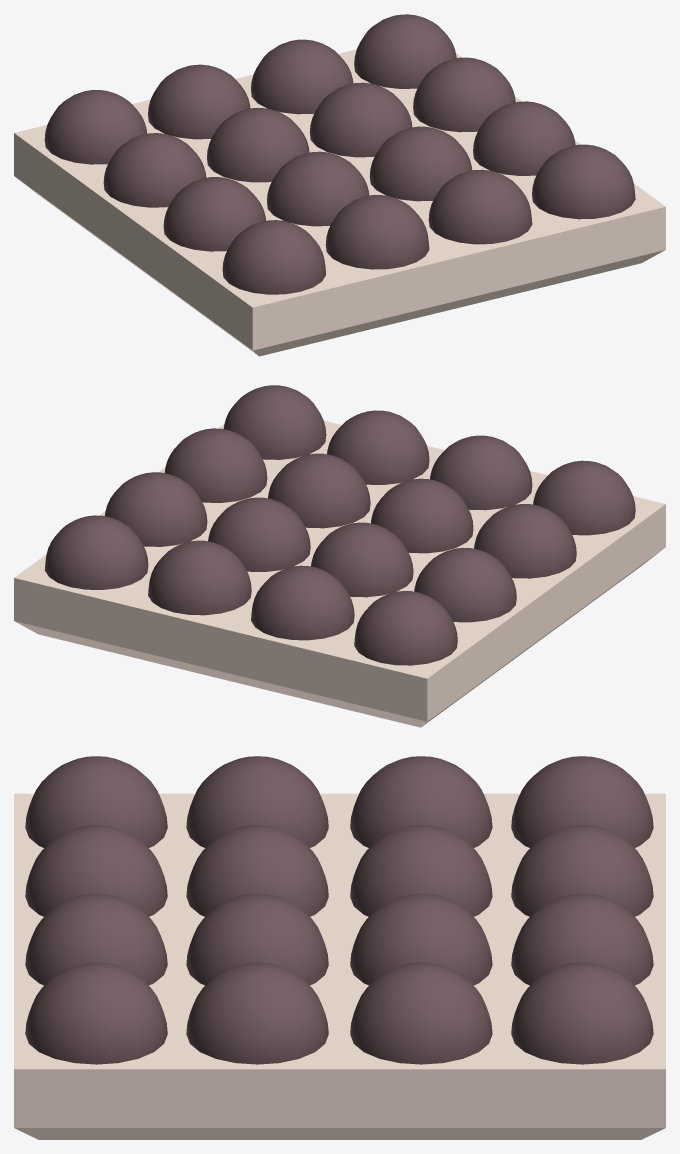
Rendered from sphere_roll.fbx.
The picture shows the model from 3 angles, top to bottom: view 1: azimuth 30°, elevation 25°; view 2: azimuth 150°, elevation 25°; view 3: azimuth 270°, elevation 25°; orthographic projection. The views are drawn at different scales.
Visible parts, largest first — view 1: sphere_roll; view 2: sphere_roll; view 3: sphere_roll.
Boxes of the visible parts, bbox=[...] form: sphere_roll: bbox=[14, 14, 665, 356]; sphere_roll: bbox=[14, 385, 665, 727]; sphere_roll: bbox=[14, 756, 665, 1139].
Bounding box in the file's own units: 185 × 45.84 × 185.
